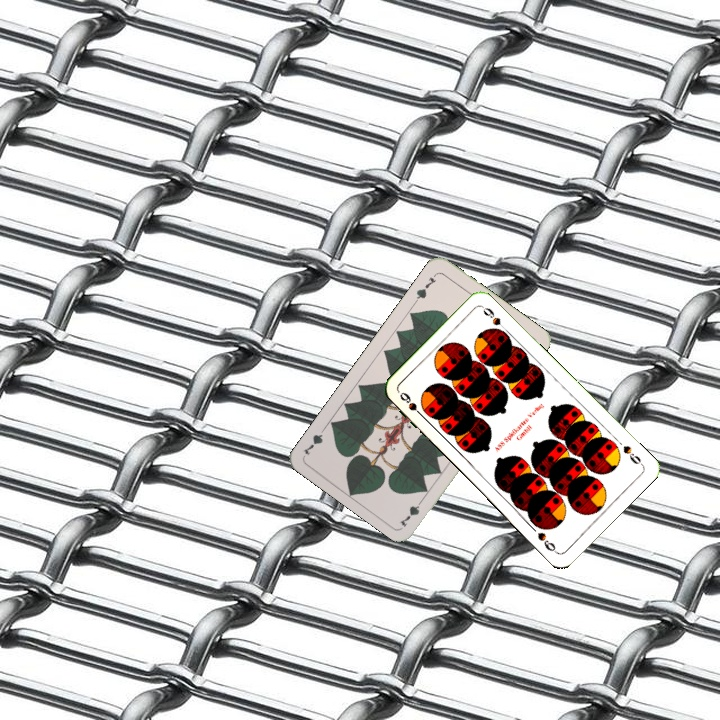G7: (395, 493, 427, 529), (411, 270, 440, 305)
S9: (395, 388, 427, 421), (619, 442, 646, 468)
